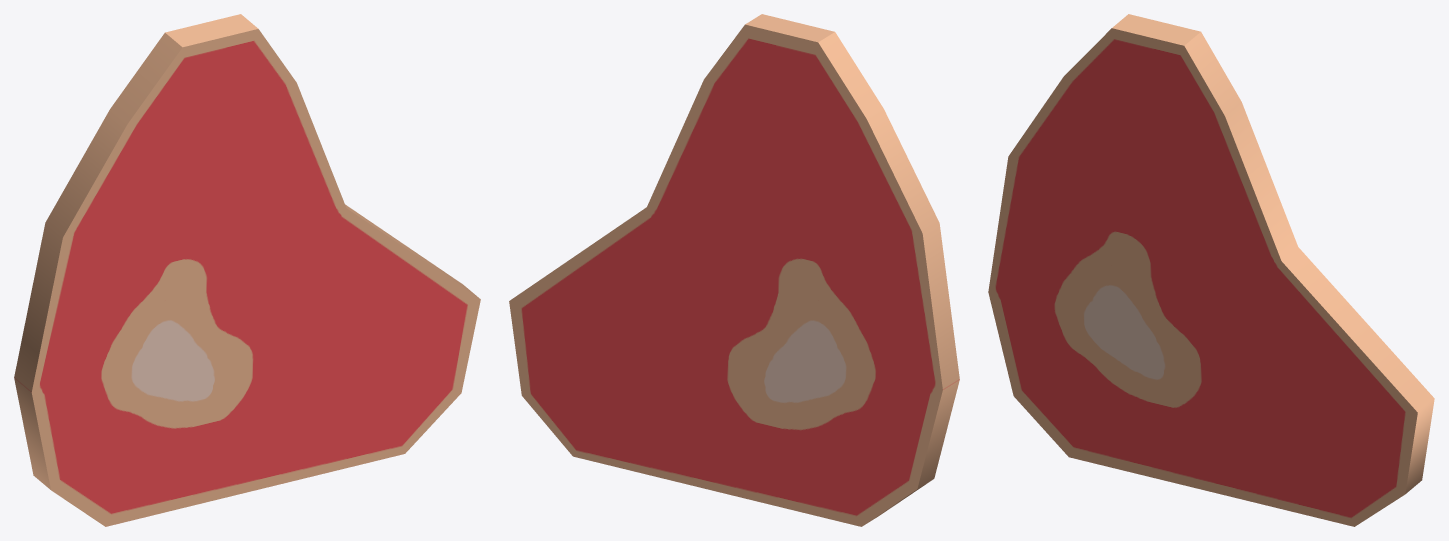
File: FBX_Steak_Update.fbx
The picture shows the model from 3 angles, left to right: view 1: azimuth 30°, elevation 25°; view 2: azimuth 150°, elevation 25°; view 3: azimuth 330°, elevation 25°; orthographic projection. The views are drawn at different scales.
Parts seen in each view (by area): view 1: pCube26; view 2: pCube26; view 3: pCube26.
Part boxes in pixels (bbox=[...]): pCube26: bbox=[14, 14, 480, 526]; pCube26: bbox=[509, 14, 959, 526]; pCube26: bbox=[988, 14, 1434, 526].
Size of the model in its own units: 1.64 by 1.67 by 0.2124.
1 material, 1 textured.
